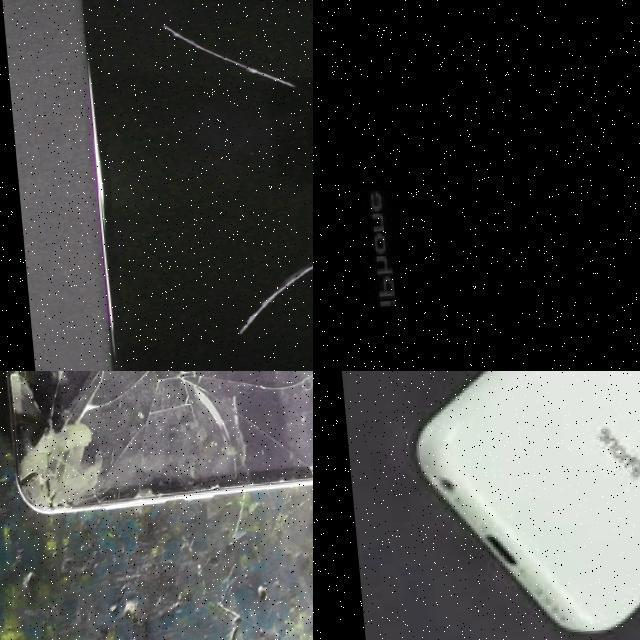scratch: (148, 22, 285, 101), (218, 260, 313, 339)
screen crack: (0, 371, 313, 525)
